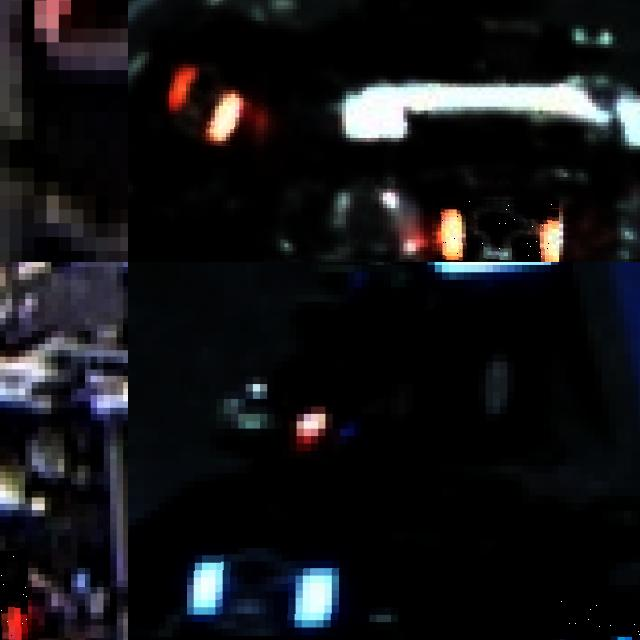Bs: (187, 548, 347, 640), (529, 599, 640, 640)
Rs: (436, 200, 559, 262), (170, 60, 252, 146)
